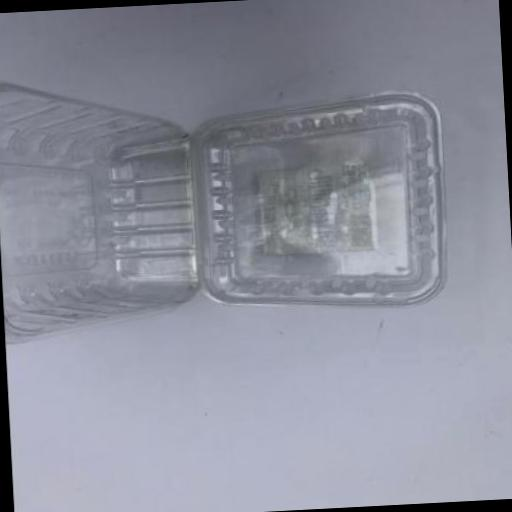plastic: (0, 56, 449, 347), (186, 88, 451, 321), (0, 73, 202, 344)
